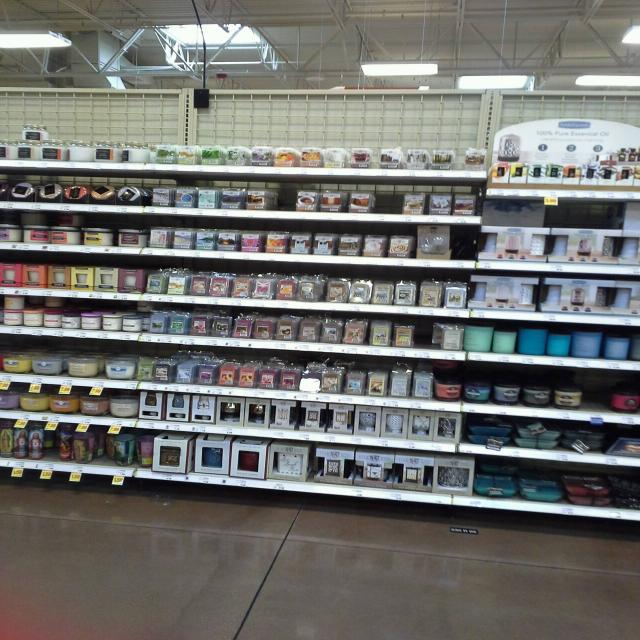void: (591, 199, 626, 239), (453, 225, 481, 270), (547, 204, 581, 237)
